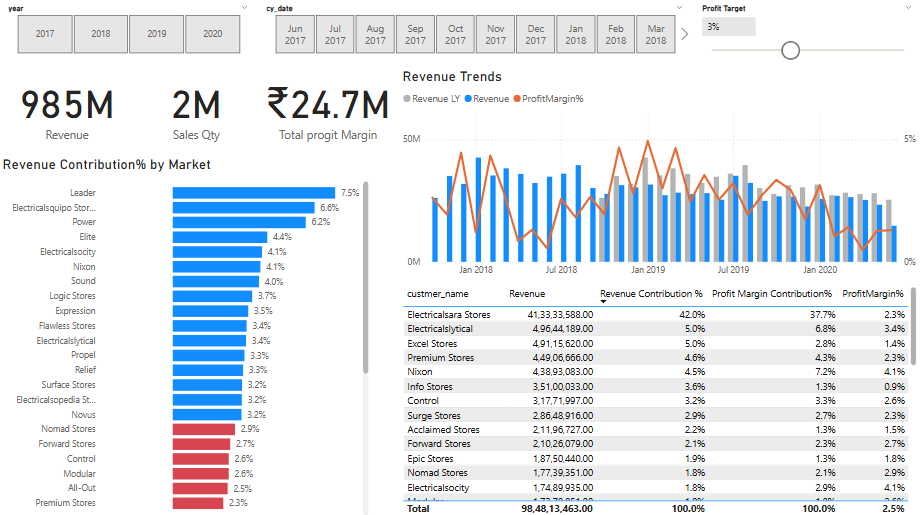

The page's visual inventory and layout, read from the dashboard file:
{"tool":"powerbi","page":{"name":"Final Dashboard","canvas":[1280,720],"ordinal":1},"visuals":[{"type":"card","fields":{"Values":["Base measures.Revenue"]},"box":[0,80.6,188.6,135.4],"z":0},{"type":"card","fields":{"Values":["Base measures.Sales Qty"]},"box":[188.6,80.6,169.9,135.4],"z":1000},{"type":"slicer","fields":{"Values":["date.year"]},"box":[0,0,358.6,80.6],"z":2000},{"type":"slicer","fields":{"Values":["date.cy_date"]},"box":[358.6,0,604.8,80.6],"z":3000},{"type":"lineClusteredColumnComboChart","title":"Revenue Trends","fields":{"Y":["Base measures.Revenue LY","Base measures.Revenue"],"Category":["date.cy_date"],"Y2":["Base measures.ProfitMargin%"]},"box":[555.8,95,724.3,299.5],"z":4000},{"type":"card","fields":{"Values":["Base measures.Total progit Margin"]},"box":[358.6,80.6,197.3,135.4],"z":5000},{"type":"tableEx","title":"Top  5 Customers","fields":{"Values":["customers.custmer_name","Base measures.Revenue","Base measures.Revenue Contribution %","Base measures.Profit Margi Contributor%","Base measures.ProfitMargin%"]},"box":[555.8,393.1,724.3,326.9],"z":6000},{"type":"barChart","title":"Revenue Contribution% by Market","fields":{"Y":["Base measures.ProfitMargin%"],"Category":["markets.zone","markets.markets_name","customers.custmer_name"]},"box":[0,216,518.4,504],"z":7000},{"type":"slicer","fields":{"Values":["Profit Target.Profit Target"]},"box":[963.4,0,316.8,95],"z":8001}]}

Visuals, with their boxes in screenshot pixels (x1, y1, x2, y2), scaled from the page's 1280x720 canvas onto the 920x515 screenshot:
card - Base measures.Revenue: {"left": 0, "top": 58, "right": 136, "bottom": 154}
card - Base measures.Sales Qty: {"left": 136, "top": 58, "right": 258, "bottom": 154}
slicer - date.year: {"left": 0, "top": 0, "right": 258, "bottom": 58}
slicer - date.cy_date: {"left": 258, "top": 0, "right": 692, "bottom": 58}
"Revenue Trends" lineClusteredColumnComboChart: {"left": 399, "top": 68, "right": 919, "bottom": 282}
card - Base measures.Total progit Margin: {"left": 258, "top": 58, "right": 400, "bottom": 154}
"Top  5 Customers" tableEx: {"left": 399, "top": 281, "right": 919, "bottom": 514}
"Revenue Contribution% by Market" barChart: {"left": 0, "top": 154, "right": 373, "bottom": 514}
slicer - Profit Target.Profit Target: {"left": 692, "top": 0, "right": 919, "bottom": 68}
